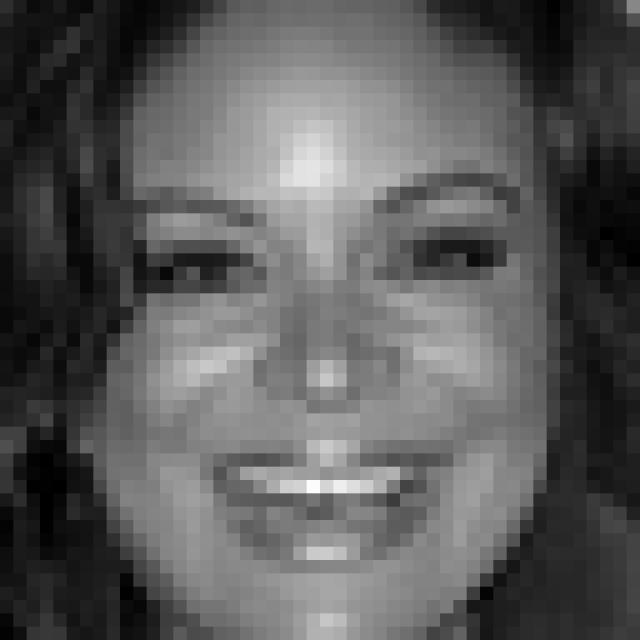happy: (132, 162, 536, 571)
